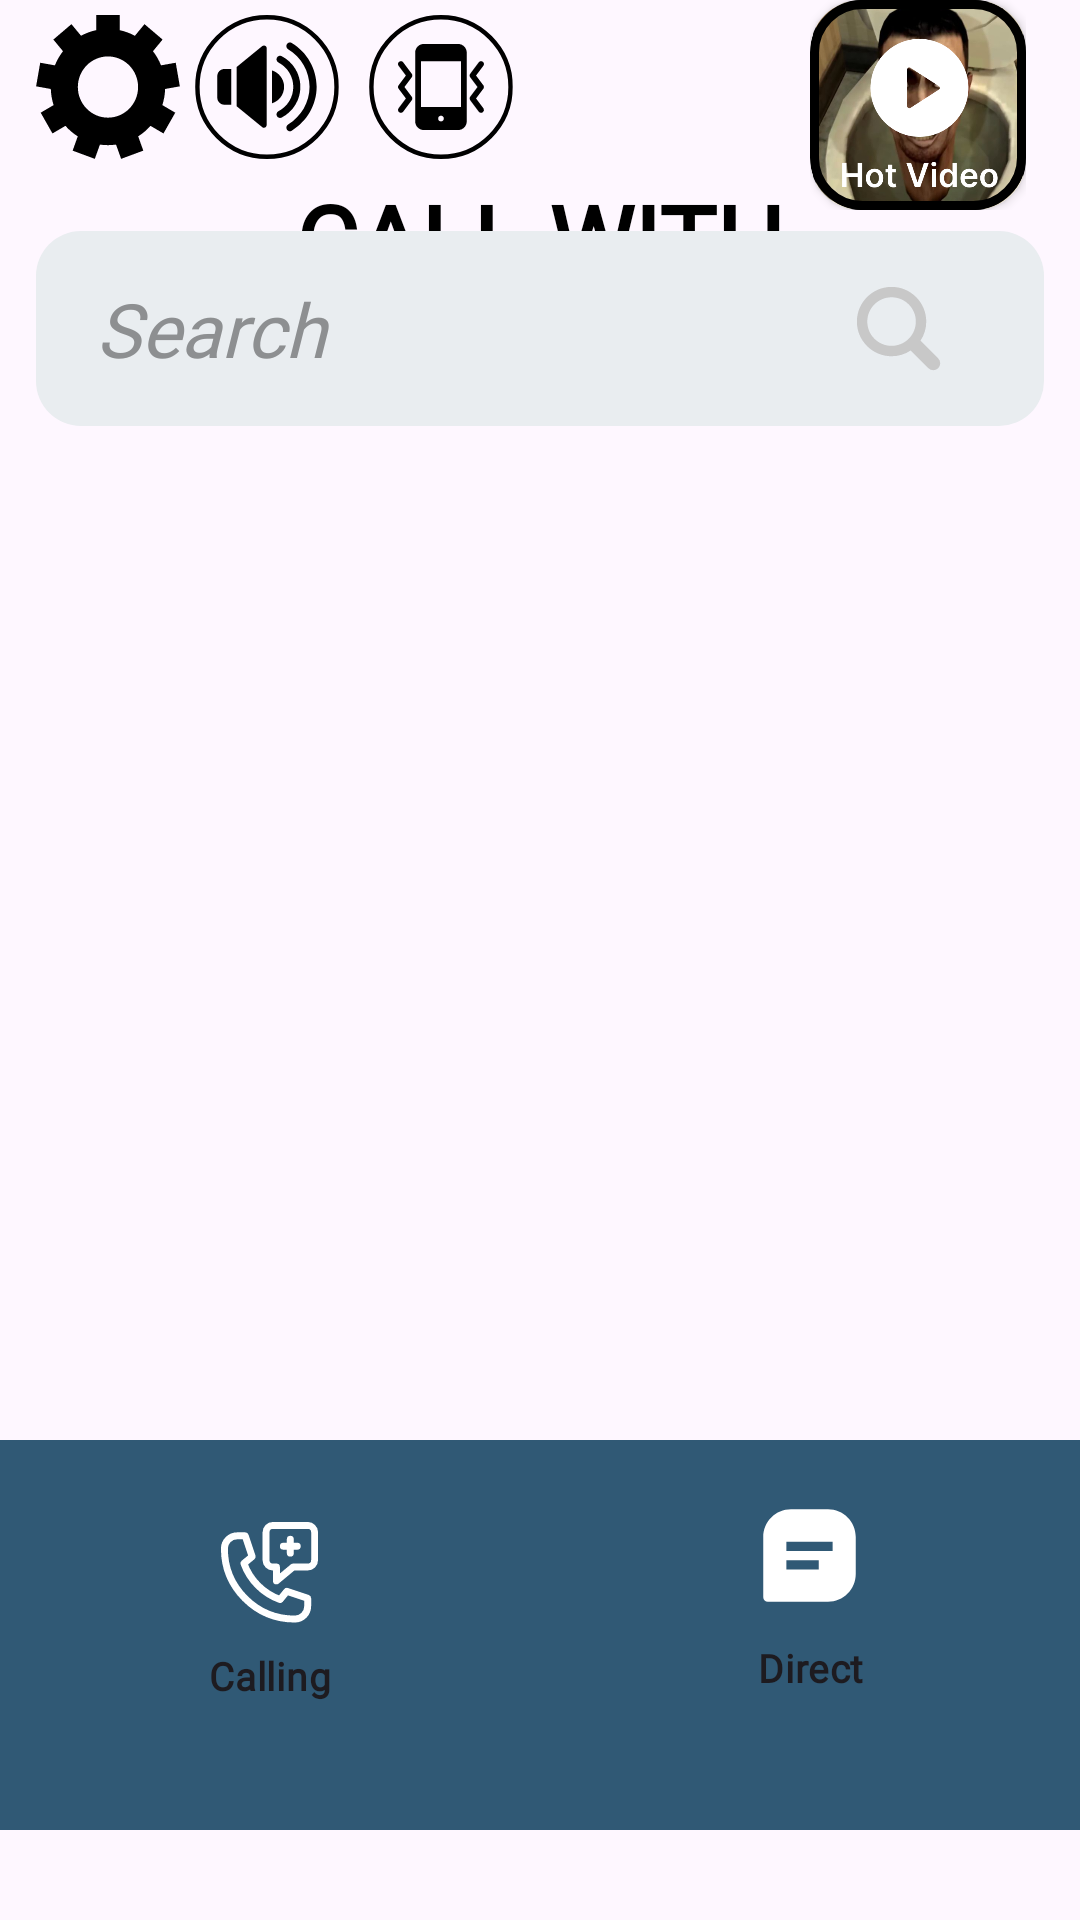

Point at icon controls on the screen. Image size 1080px x 1920px, points as (x,y).
ring: (441,87)
sound: (267,87)
